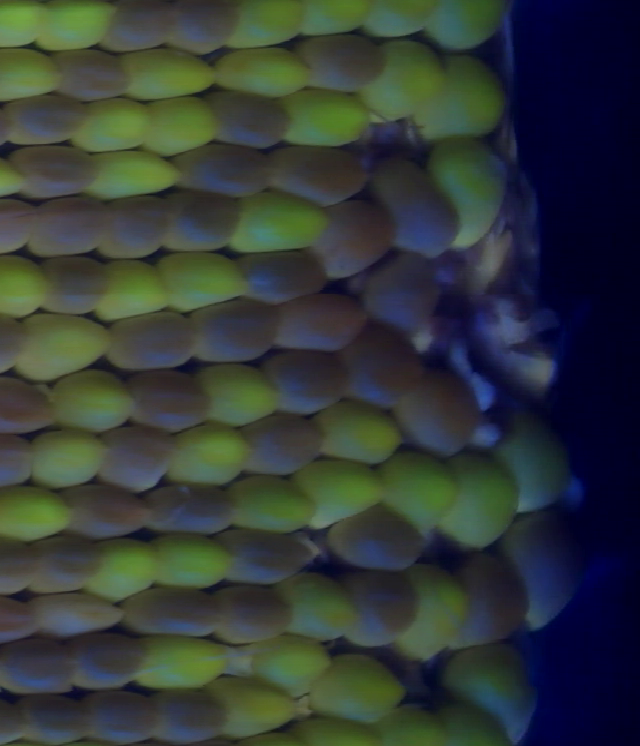fluorescent: (422, 130, 515, 255), (415, 46, 512, 153), (446, 637, 545, 735), (442, 449, 528, 557), (501, 401, 579, 516), (5, 310, 122, 385), (356, 33, 451, 125), (223, 186, 341, 260), (307, 393, 409, 475), (300, 649, 410, 725), (396, 557, 473, 665), (150, 247, 260, 321), (218, 469, 329, 540), (289, 457, 394, 532), (379, 446, 465, 537), (46, 362, 143, 441), (109, 45, 228, 109), (272, 568, 366, 648), (189, 356, 288, 431), (159, 418, 256, 494), (125, 627, 234, 694), (144, 527, 244, 600), (246, 630, 344, 704), (200, 670, 304, 738), (272, 81, 371, 152), (20, 419, 114, 492), (76, 534, 168, 608), (87, 251, 174, 329), (209, 47, 323, 103), (78, 145, 188, 203), (64, 92, 161, 157), (133, 95, 224, 164), (0, 477, 81, 545), (421, 1, 511, 60), (29, 1, 121, 56), (225, 1, 311, 57), (0, 247, 57, 327), (0, 42, 67, 107), (355, 1, 441, 45), (295, 1, 376, 43), (0, 1, 54, 52), (0, 148, 30, 211)
nonfluorescent: (501, 503, 591, 637), (372, 153, 465, 265), (394, 356, 484, 467), (451, 544, 538, 656), (305, 194, 404, 292), (351, 245, 447, 340), (324, 499, 431, 580), (332, 563, 426, 655), (336, 320, 431, 411), (209, 520, 324, 591), (182, 291, 289, 367), (256, 346, 358, 423), (102, 305, 210, 377), (267, 138, 373, 211), (114, 364, 218, 437), (170, 137, 283, 203), (267, 288, 372, 359), (201, 579, 306, 650), (110, 582, 229, 644), (51, 478, 162, 544), (91, 419, 185, 496), (135, 478, 244, 543), (29, 246, 119, 324), (291, 29, 395, 95), (57, 628, 156, 696), (237, 410, 330, 481), (200, 84, 294, 153), (93, 193, 184, 264), (6, 141, 107, 204), (234, 247, 335, 309), (24, 190, 117, 257), (41, 45, 138, 108), (158, 187, 247, 255), (24, 528, 107, 600), (0, 631, 85, 700), (0, 92, 98, 151), (145, 683, 234, 746), (4, 689, 102, 746), (79, 685, 165, 746), (159, 1, 247, 60), (95, 1, 184, 59), (26, 590, 131, 636), (0, 370, 64, 442), (0, 530, 49, 606), (0, 195, 45, 262), (0, 302, 35, 382), (0, 589, 46, 648), (0, 431, 39, 498), (0, 693, 38, 746)
